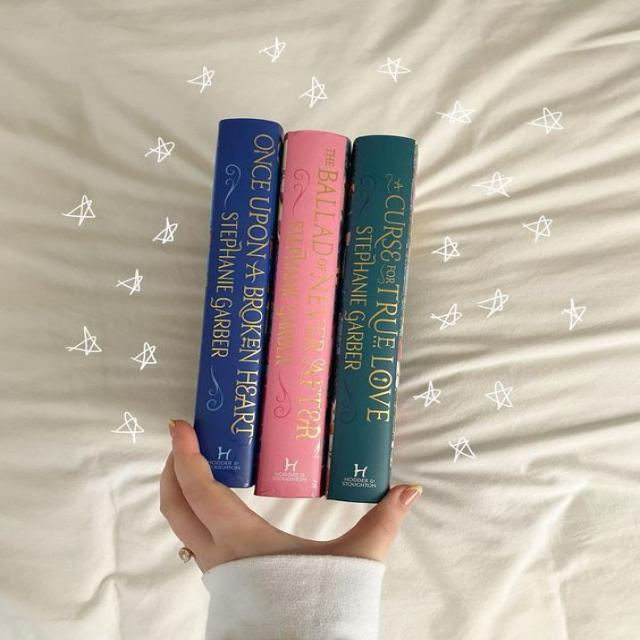book: (255, 133, 349, 497), (325, 136, 418, 503), (192, 120, 282, 487)
